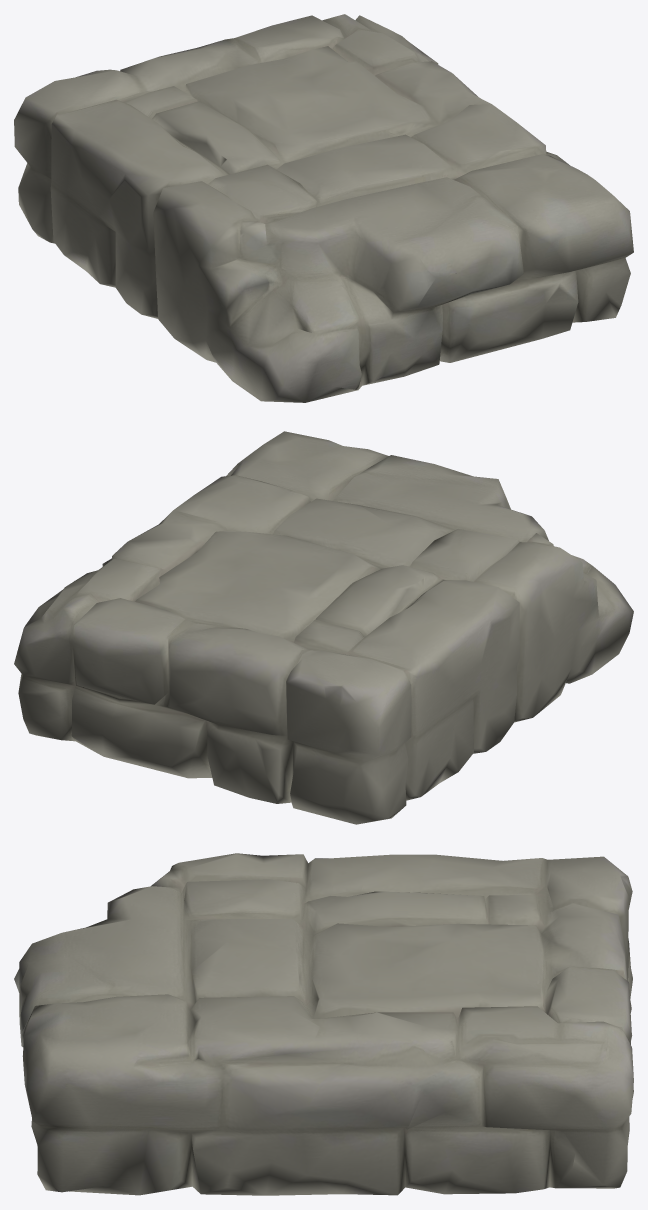
File: road-slab-b.glb
3 renders of one model, top to bottom at view 1: azimuth 30°, elevation 25°; view 2: azimuth 150°, elevation 25°; view 3: azimuth 270°, elevation 25°, orthographic. The views are drawn at different scales.
Visible parts, largest first — view 1: tripo_node_74053f67-0118-4e66-8e62-1c846f80499d; view 2: tripo_node_74053f67-0118-4e66-8e62-1c846f80499d; view 3: tripo_node_74053f67-0118-4e66-8e62-1c846f80499d.
Part boxes in pixels (x1,y1,x2,y2): tripo_node_74053f67-0118-4e66-8e62-1c846f80499d: [14, 14, 633, 402]; tripo_node_74053f67-0118-4e66-8e62-1c846f80499d: [14, 431, 633, 824]; tripo_node_74053f67-0118-4e66-8e62-1c846f80499d: [14, 853, 633, 1195].
Size of the model in its own units: 0.7863 by 0.2966 by 1.
Materials: 1 (1 with a texture image).
